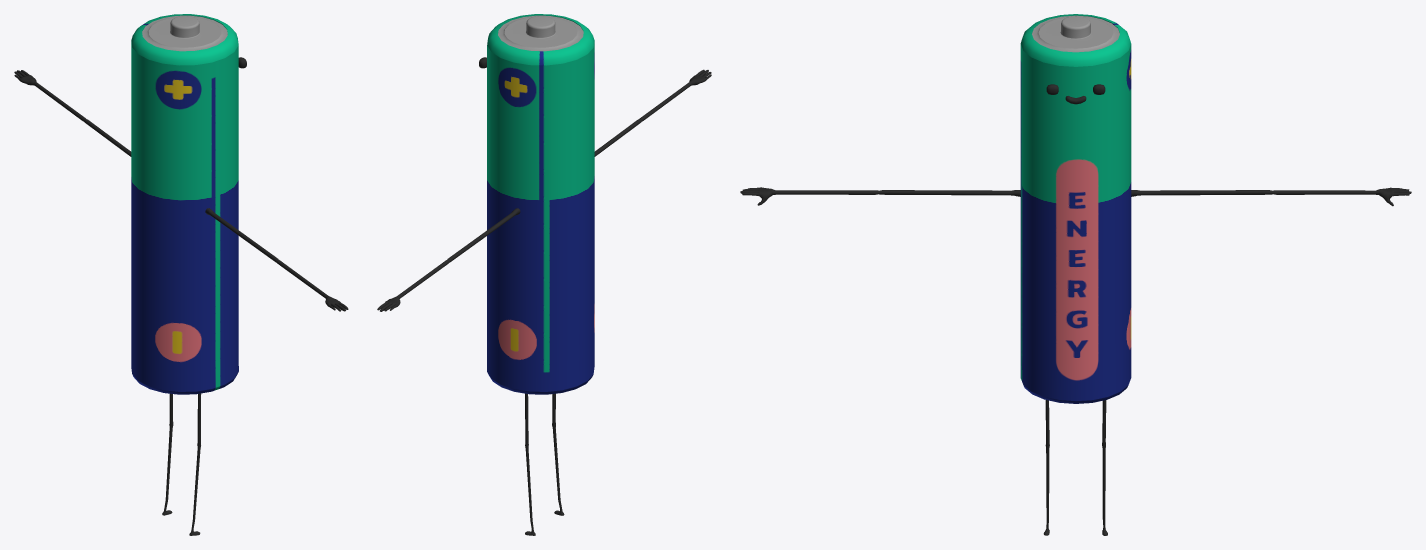
Rendered from scene_XB13yjnwwZ.glb.
3 views of the same model, side by side, from view 1: azimuth 30°, elevation 25°; view 2: azimuth 150°, elevation 25°; view 3: azimuth 270°, elevation 25° (orthographic). The views are drawn at different scales.
Visible parts, largest first — view 1: _100Avatars_126_CoolBattery; view 2: _100Avatars_126_CoolBattery; view 3: _100Avatars_126_CoolBattery.
Part boxes in pixels (x1,y1,x2,y2): _100Avatars_126_CoolBattery: (14,14,348,535); _100Avatars_126_CoolBattery: (377,14,711,535); _100Avatars_126_CoolBattery: (740,14,1411,535).
Bounding box in the file's own units: 0.9971 × 4.94 × 5.85.
Materials: 1 (1 with a texture image).
